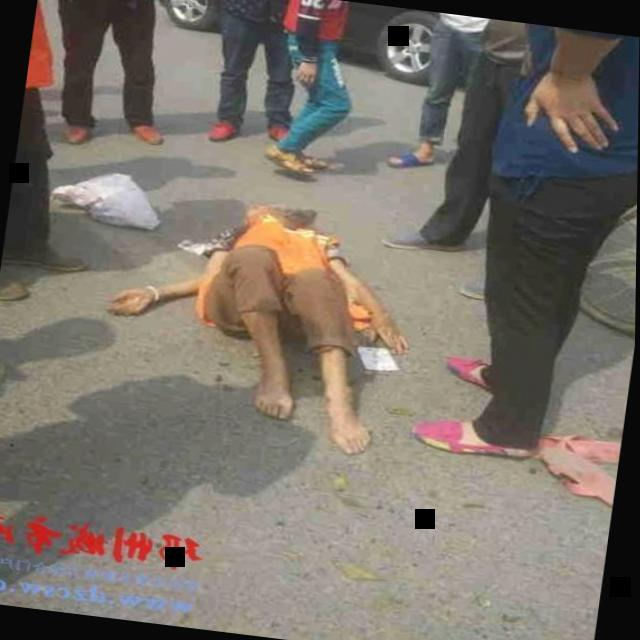Fall-Detected: (84, 165, 453, 454)
